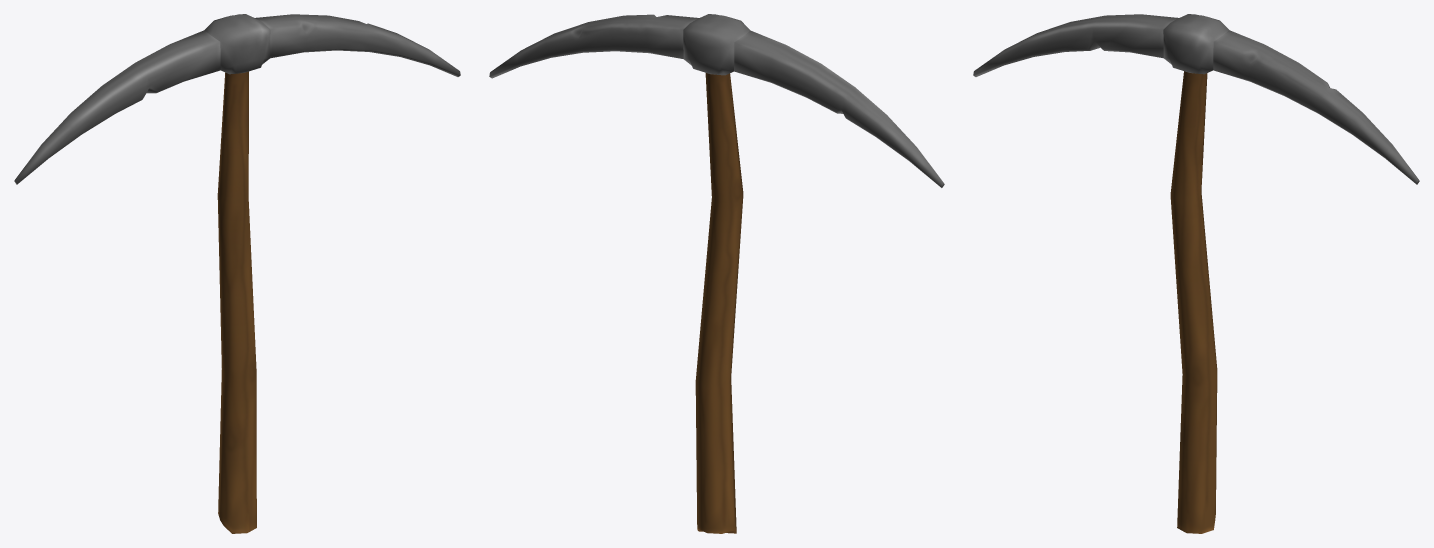
The model's file is Pickaxe.fbx.
The picture shows the model from 3 angles, left to right: view 1: azimuth 30°, elevation 25°; view 2: azimuth 150°, elevation 25°; view 3: azimuth 330°, elevation 25°; orthographic projection.
Parts seen in each view (by area): view 1: Miner.Pickaxe; view 2: Miner.Pickaxe; view 3: Miner.Pickaxe.
Boxes of the visible parts, x1,y1,x2,y2 form: Miner.Pickaxe: [14, 14, 460, 533]; Miner.Pickaxe: [489, 14, 944, 533]; Miner.Pickaxe: [973, 14, 1419, 533].
Size of the model in its own units: 0.084 by 0.8911 by 0.8206.
Materials: 1 (1 with a texture image).
